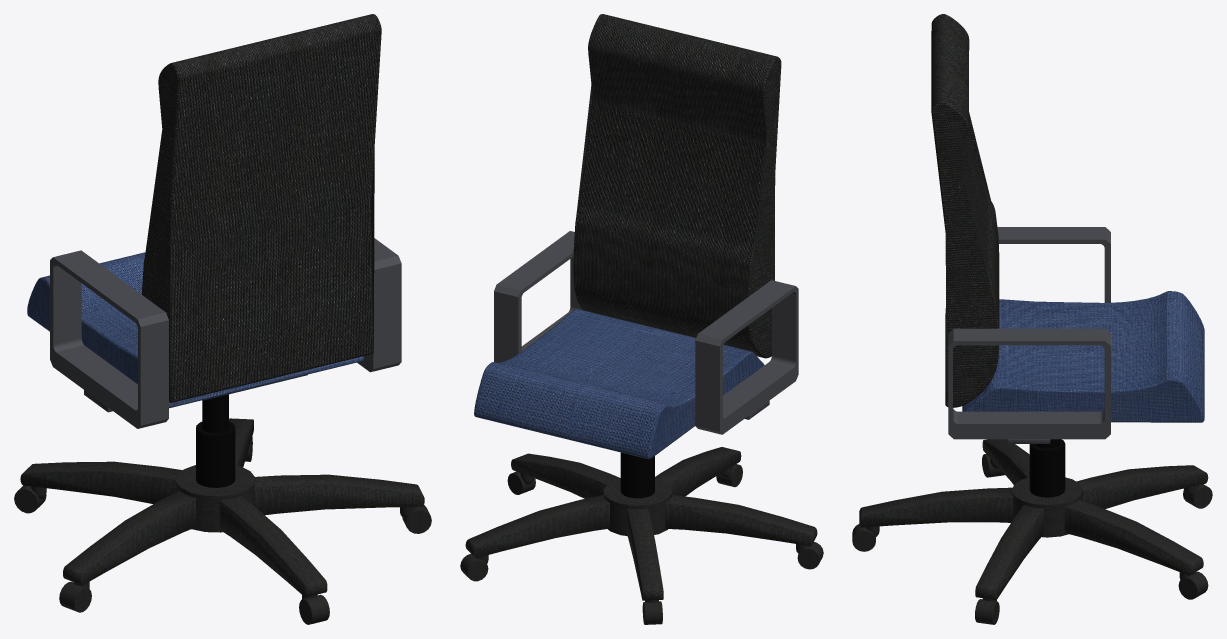
Rendered from chair01.fbx.
3 views of the same model, side by side, from view 1: azimuth 30°, elevation 25°; view 2: azimuth 150°, elevation 25°; view 3: azimuth 270°, elevation 25° (orthographic). The views are drawn at different scales.
Parts seen in each view (by area): view 1: roomm:polySurface24, roomm:polySurface22, roomm:polySurface25, roomm:polySurface15, roomm:polySurface6, roomm:polySurface9, roomm:polySurface3, roomm:polySurface23, roomm:polySurface19, roomm:polySurface18, roomm:polySurface7, roomm:polySurface12 (+3 smaller); view 2: roomm:polySurface24, roomm:polySurface25, roomm:polySurface22, roomm:polySurface6, roomm:polySurface23, roomm:polySurface12, roomm:polySurface15, roomm:polySurface9, roomm:polySurface3, roomm:polySurface18, roomm:polySurface19, roomm:polySurface13 (+1 smaller); view 3: roomm:polySurface25, roomm:polySurface24, roomm:polySurface23, roomm:polySurface3, roomm:polySurface12, roomm:polySurface9, roomm:polySurface15, roomm:polySurface22, roomm:polySurface18, roomm:polySurface19, roomm:polySurface6, roomm:polySurface13 (+2 smaller).
Boxes of the visible parts, x1,y1,x2,y2 form: roomm:polySurface24: (142, 14, 381, 402); roomm:polySurface22: (50, 250, 168, 428); roomm:polySurface25: (27, 252, 364, 408); roomm:polySurface15: (254, 474, 424, 515); roomm:polySurface6: (63, 490, 195, 585); roomm:polySurface9: (20, 461, 182, 503); roomm:polySurface3: (219, 496, 327, 597); roomm:polySurface23: (357, 238, 401, 372); roomm:polySurface19: (196, 394, 235, 487); roomm:polySurface18: (176, 465, 255, 532); roomm:polySurface7: (59, 581, 91, 612); roomm:polySurface12: (229, 418, 253, 467); roomm:polySurface24: (573, 14, 781, 358); roomm:polySurface25: (474, 309, 764, 459); roomm:polySurface22: (695, 280, 798, 434); roomm:polySurface6: (665, 495, 817, 546); roomm:polySurface23: (494, 231, 582, 362); roomm:polySurface12: (465, 494, 609, 557); roomm:polySurface15: (511, 453, 620, 498); roomm:polySurface9: (627, 508, 663, 600); roomm:polySurface3: (655, 447, 741, 496); roomm:polySurface18: (603, 478, 672, 535); roomm:polySurface19: (620, 452, 654, 498); roomm:polySurface13: (460, 553, 488, 581); roomm:polySurface25: (962, 291, 1204, 422); roomm:polySurface24: (931, 14, 999, 407); roomm:polySurface23: (948, 328, 1110, 439); roomm:polySurface3: (859, 487, 1012, 527); roomm:polySurface12: (1064, 500, 1203, 575); roomm:polySurface9: (1076, 465, 1208, 508); roomm:polySurface15: (975, 505, 1043, 599); roomm:polySurface22: (997, 227, 1110, 302); roomm:polySurface18: (1011, 477, 1083, 537); roomm:polySurface19: (1029, 439, 1065, 497); roomm:polySurface6: (982, 439, 1029, 484); roomm:polySurface13: (1178, 571, 1208, 599).
Size of the model in its own units: 8.14 by 11.72 by 7.79.
Materials: 5 (2 with a texture image).
